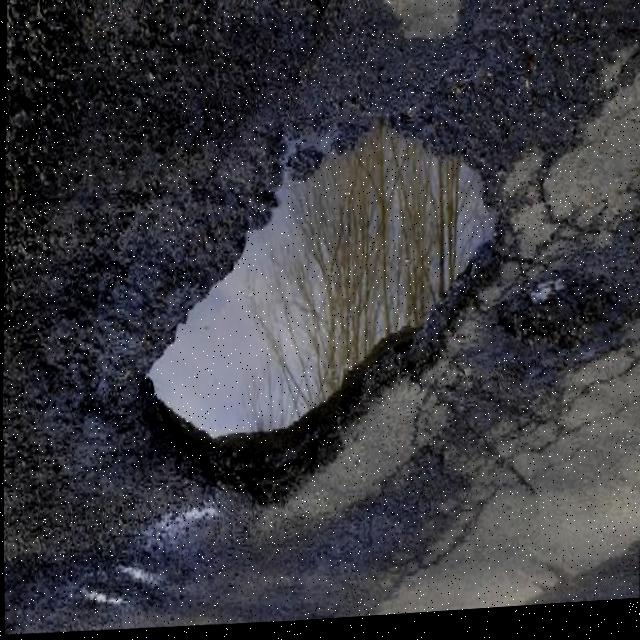Pothole: (131, 109, 511, 528), (495, 273, 626, 371)
